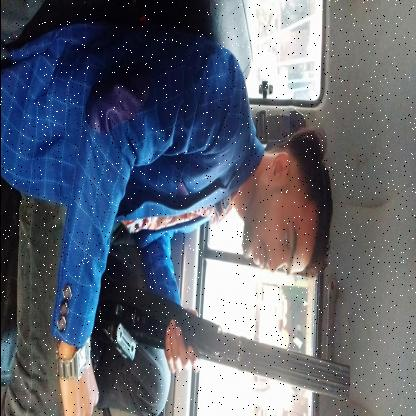rifle: (88, 276, 350, 404)
